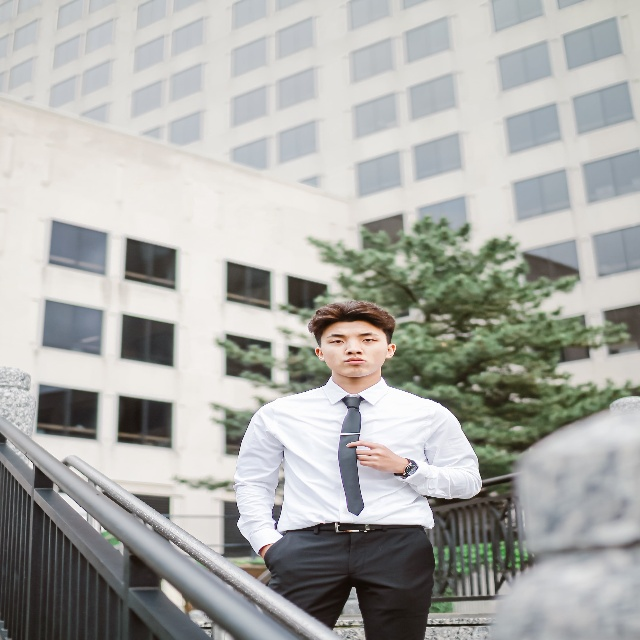Sin_guantes: (346, 436, 400, 475)
